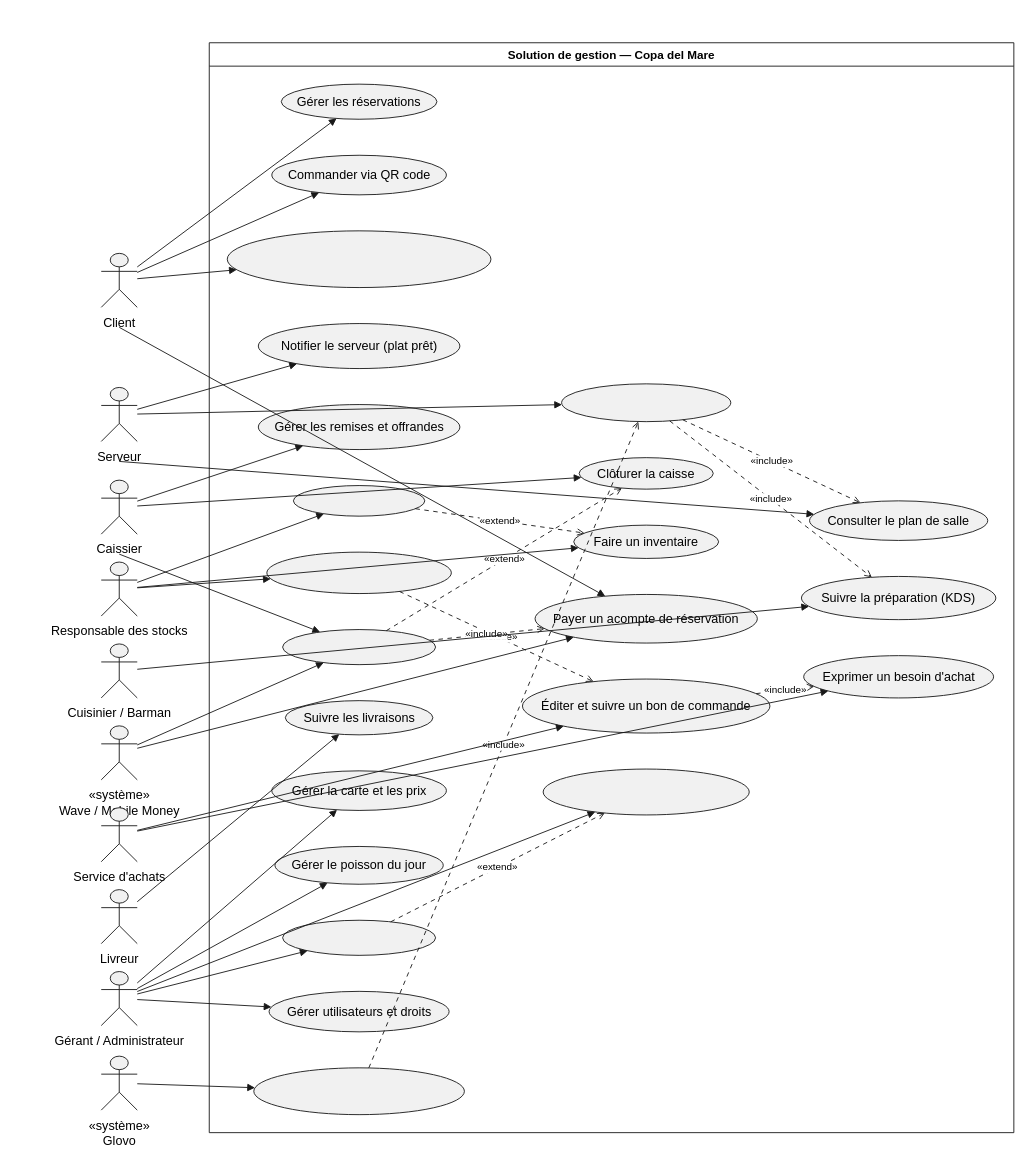
The diagram is 1030 pixels wide and 1164 high, and some of its shapes have lost their labels. The shapes that lost their labels are listed below. From the top down, each one's box as (x1, y1, x2, y2) in pixels, then its label:
(226, 230, 491, 288): Enregistrer une commande téléphonique
(561, 383, 731, 422): Prendre une commande
(292, 485, 425, 516): Suivre les stocks
(266, 551, 451, 594): Réceptionner une livraison
(282, 629, 436, 665): Encaisser et facturer
(542, 768, 749, 815): Consulter les tableaux de bord
(282, 919, 436, 955): Exporter les rapports
(253, 1067, 464, 1115): Recevoir une commande Glovo
